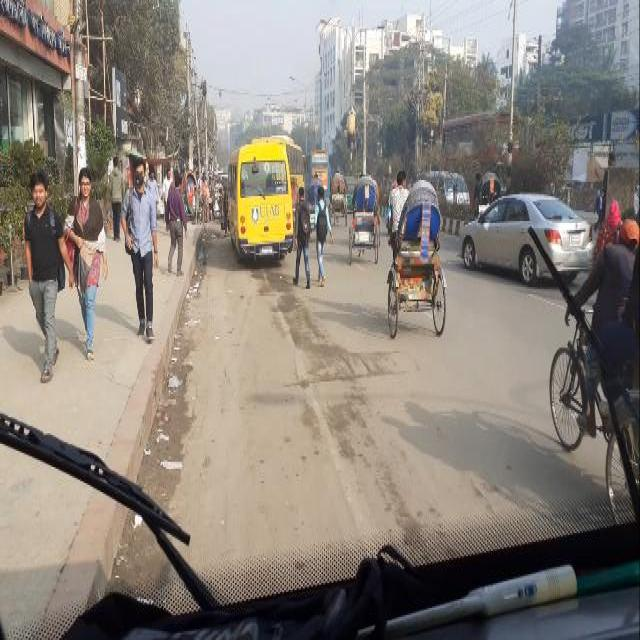bus: (440, 109, 520, 169), (304, 148, 330, 193)
car: (454, 190, 594, 282)
minibus: (226, 141, 292, 260), (250, 132, 302, 194)
rickshaw: (594, 194, 638, 517), (386, 168, 446, 337), (348, 171, 378, 262), (181, 168, 209, 234), (471, 166, 501, 217), (304, 173, 324, 232), (328, 170, 347, 224), (290, 172, 298, 251)
three wheelers -CNG-: (342, 174, 356, 209)
van: (440, 170, 470, 218)
